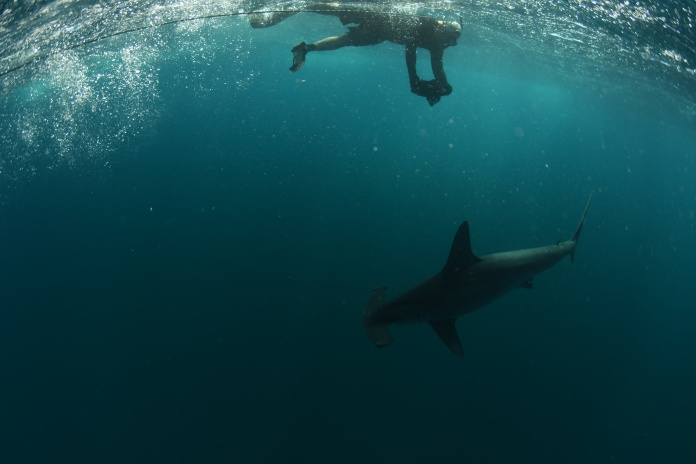Hammer: (305, 201, 608, 387)
